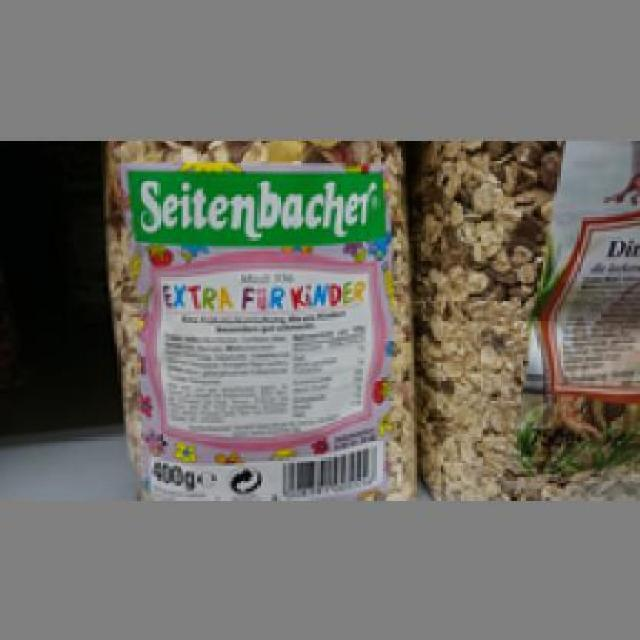Cereal: (103, 137, 423, 503), (417, 137, 637, 503)
